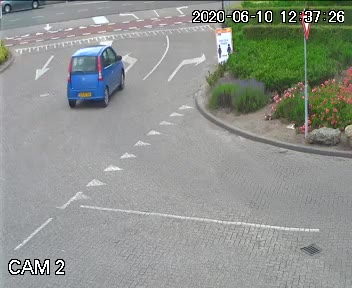car: (58, 35, 130, 115)
